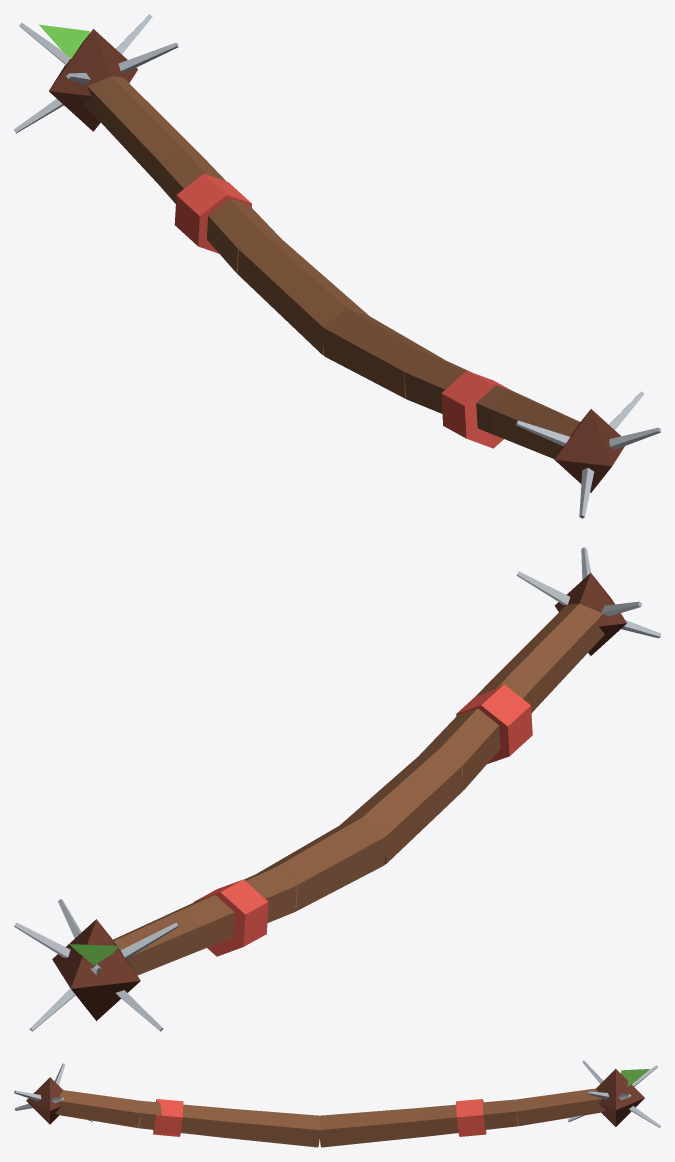
File: G_Stick_3.fbx
3 renders of one model, top to bottom at view 1: azimuth 30°, elevation 25°; view 2: azimuth 150°, elevation 25°; view 3: azimuth 270°, elevation 25°, orthographic. The views are drawn at different scales.
Visible parts, largest first — view 1: G_Stick_3; view 2: G_Stick_3; view 3: G_Stick_3.
Part boxes in pixels (bbox=[...]): G_Stick_3: bbox=[14, 14, 660, 518]; G_Stick_3: bbox=[14, 547, 660, 1031]; G_Stick_3: bbox=[14, 1060, 660, 1147].
Size of the model in its own units: 0.353 by 0.3347 by 2.42.
